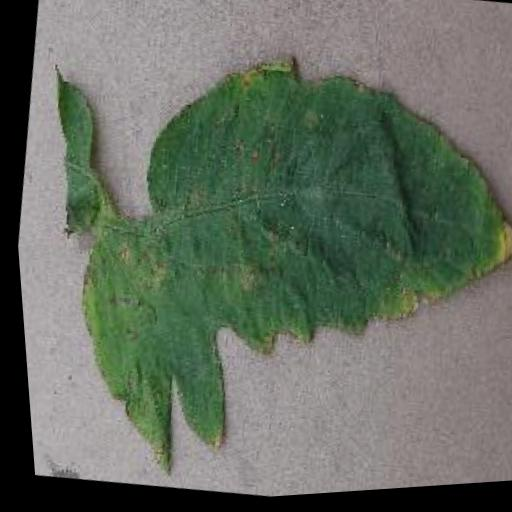Bacterial Spot: (32, 16, 512, 510)
